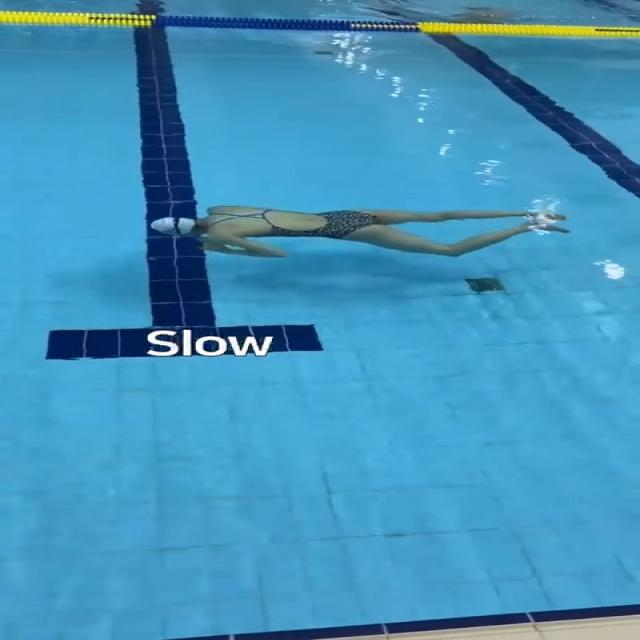Swimming: (148, 201, 571, 259)
